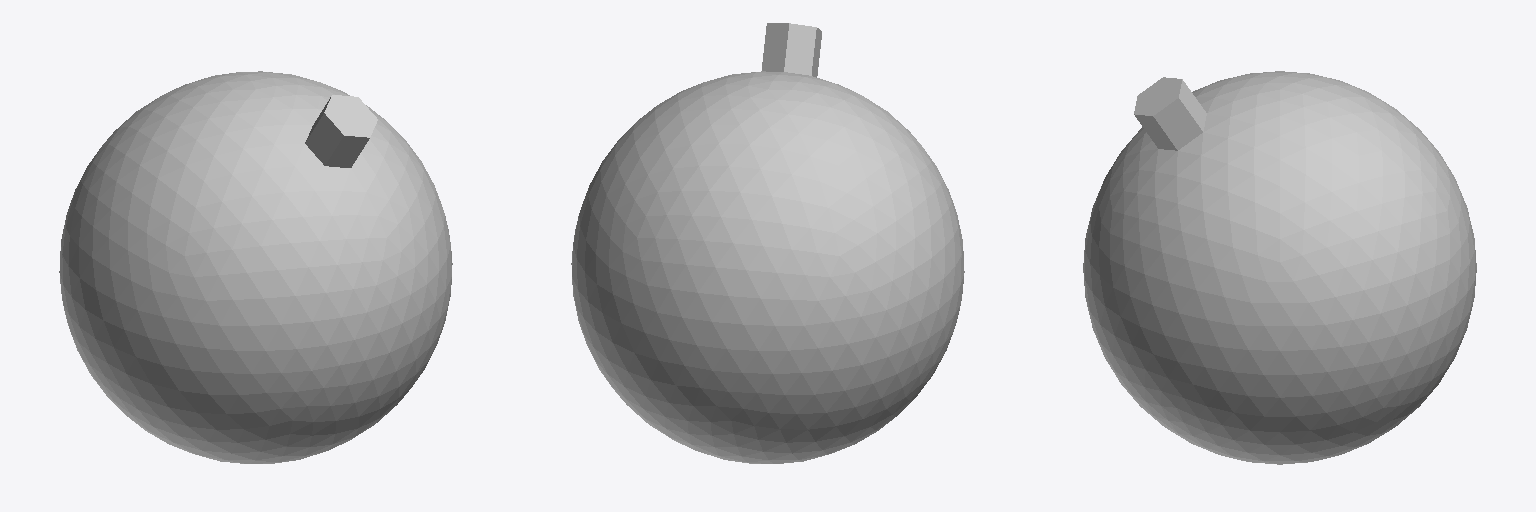
The model's file is Ornament.obj.
The picture shows the model from 3 angles: view 1: azimuth 30°, elevation 25°; view 2: azimuth 150°, elevation 25°; view 3: azimuth 270°, elevation 25°; orthographic projection.
Size of the model in its own units: 2 by 2.13 by 2.